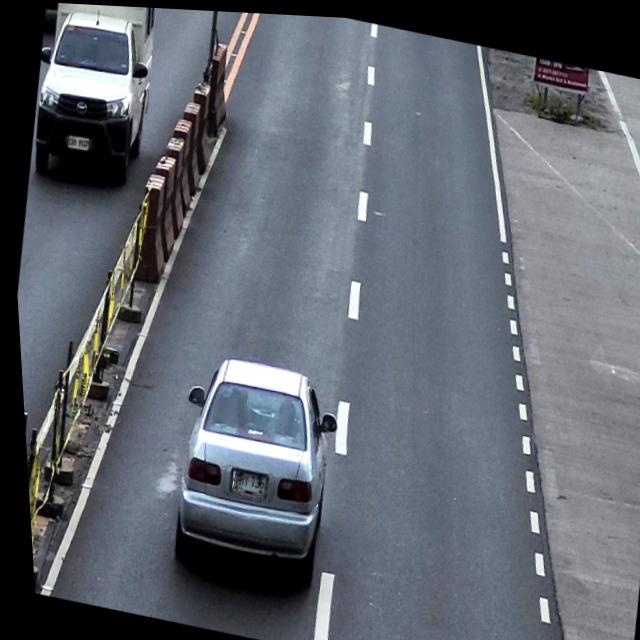Car: (155, 345, 348, 588), (21, 1, 164, 192)
License-Plate: (225, 465, 264, 493), (64, 132, 90, 151)
